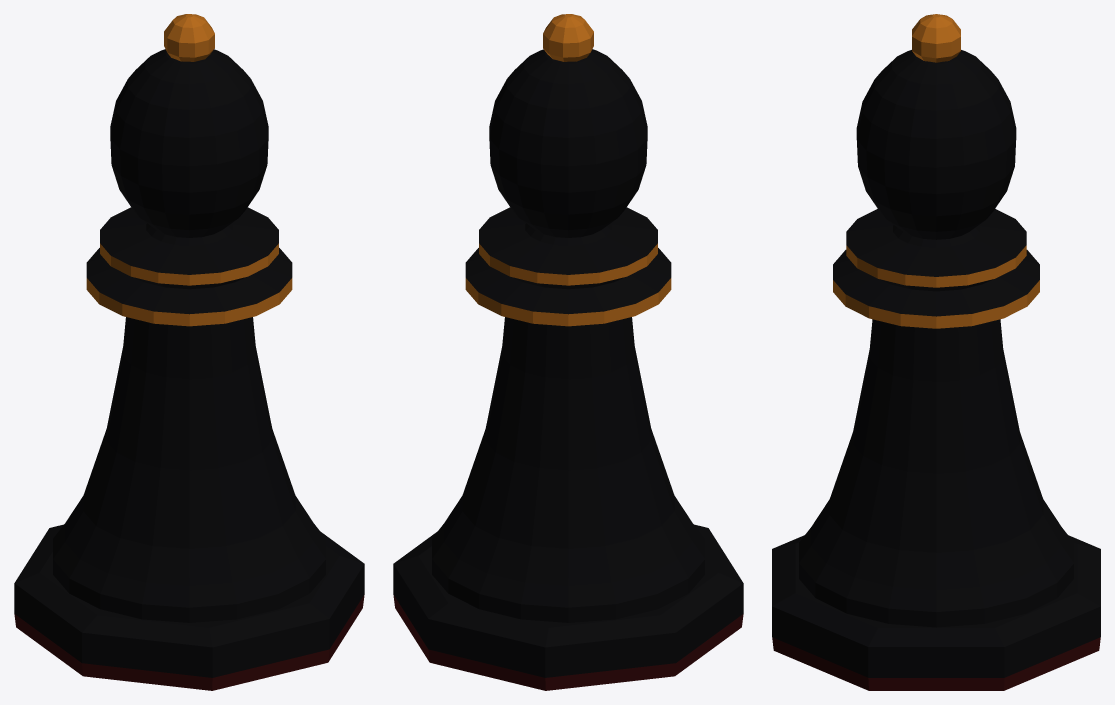
File: cozy_chess_black_bishop.obj
3 views of the same model, side by side, from view 1: azimuth 30°, elevation 25°; view 2: azimuth 150°, elevation 25°; view 3: azimuth 270°, elevation 25° (orthographic).
Visible parts, largest first — view 1: Chess_Black_Bishop_Mesh; view 2: Chess_Black_Bishop_Mesh; view 3: Chess_Black_Bishop_Mesh.
Boxes of the visible parts, left/top/right/bottom form: Chess_Black_Bishop_Mesh: left=14, top=14, right=364, bottom=690; Chess_Black_Bishop_Mesh: left=393, top=14, right=743, bottom=690; Chess_Black_Bishop_Mesh: left=772, top=14, right=1100, bottom=690.
Size of the model in its own units: 0.0407 by 0.0829 by 0.0407.
